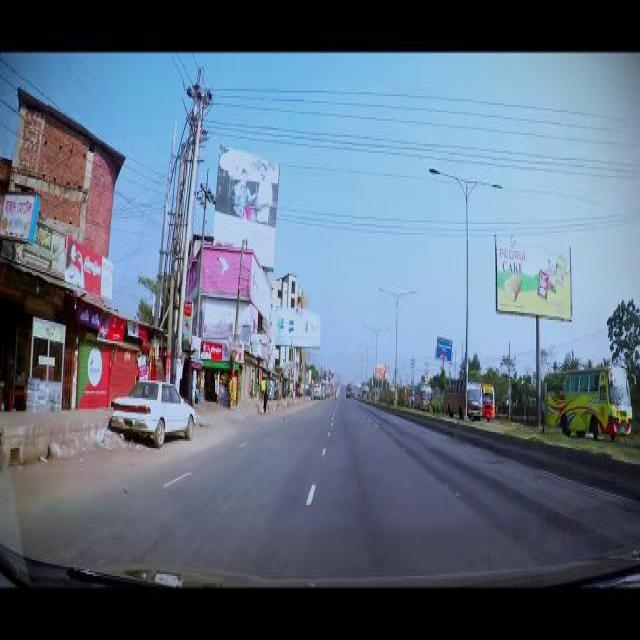bus: (543, 365, 633, 435), (442, 376, 482, 417), (412, 384, 430, 409), (482, 381, 494, 415), (429, 383, 443, 410), (312, 381, 322, 398)
car: (109, 378, 195, 447)
